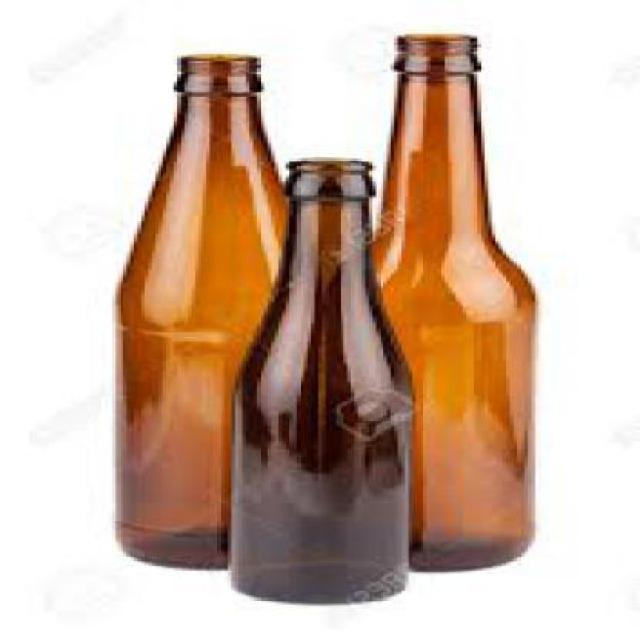kaca: (358, 34, 532, 568), (117, 54, 283, 566), (228, 157, 409, 601)
